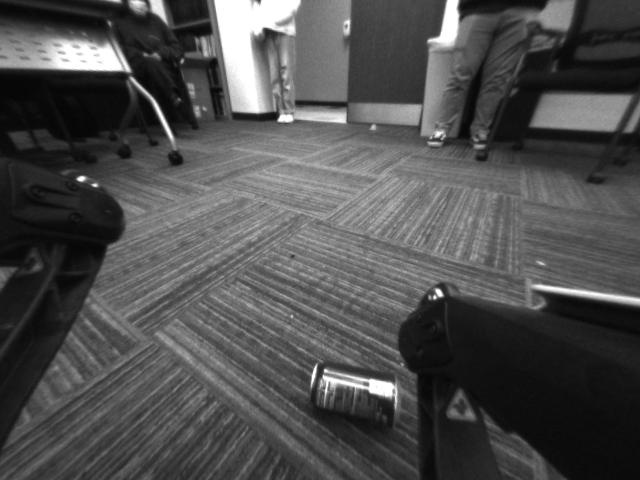can: (306, 351, 405, 440)
